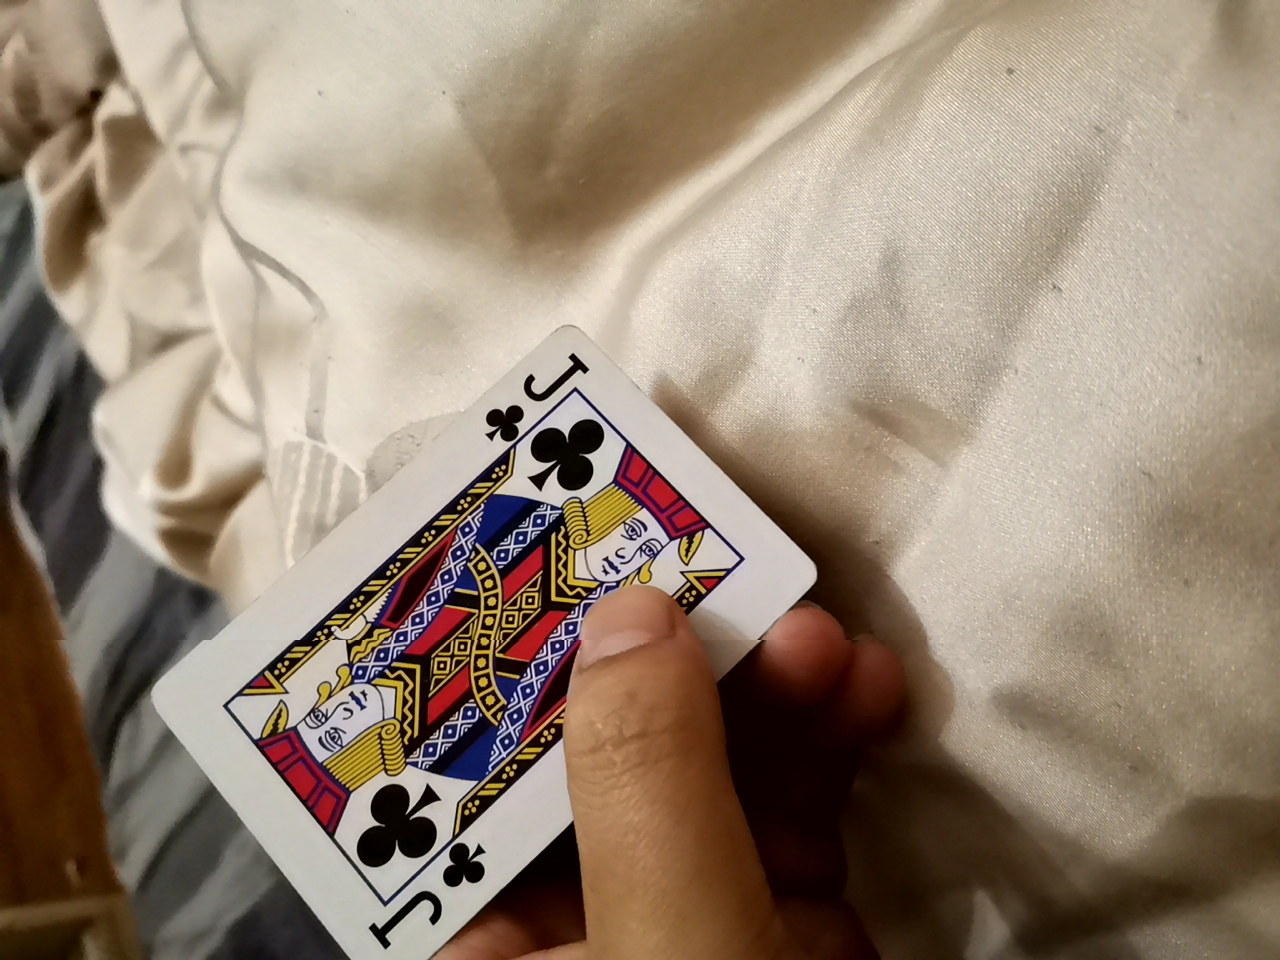mh j: (191, 328, 790, 925)
